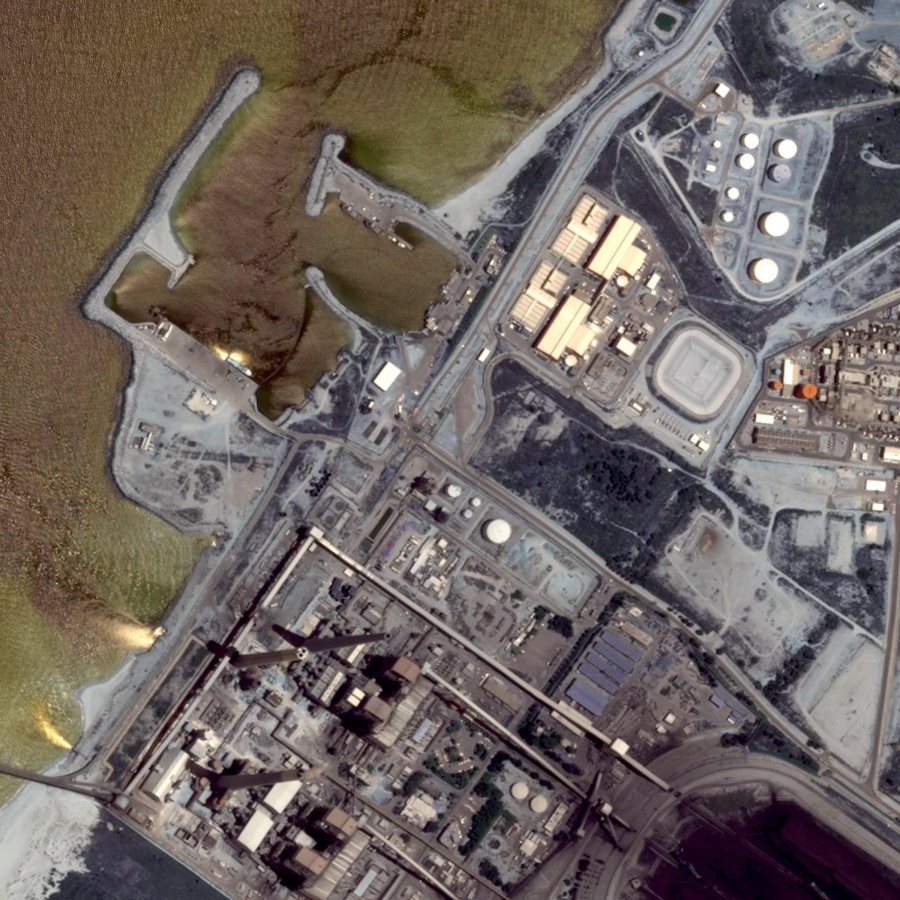PowerPlant: (638, 82, 870, 296)
